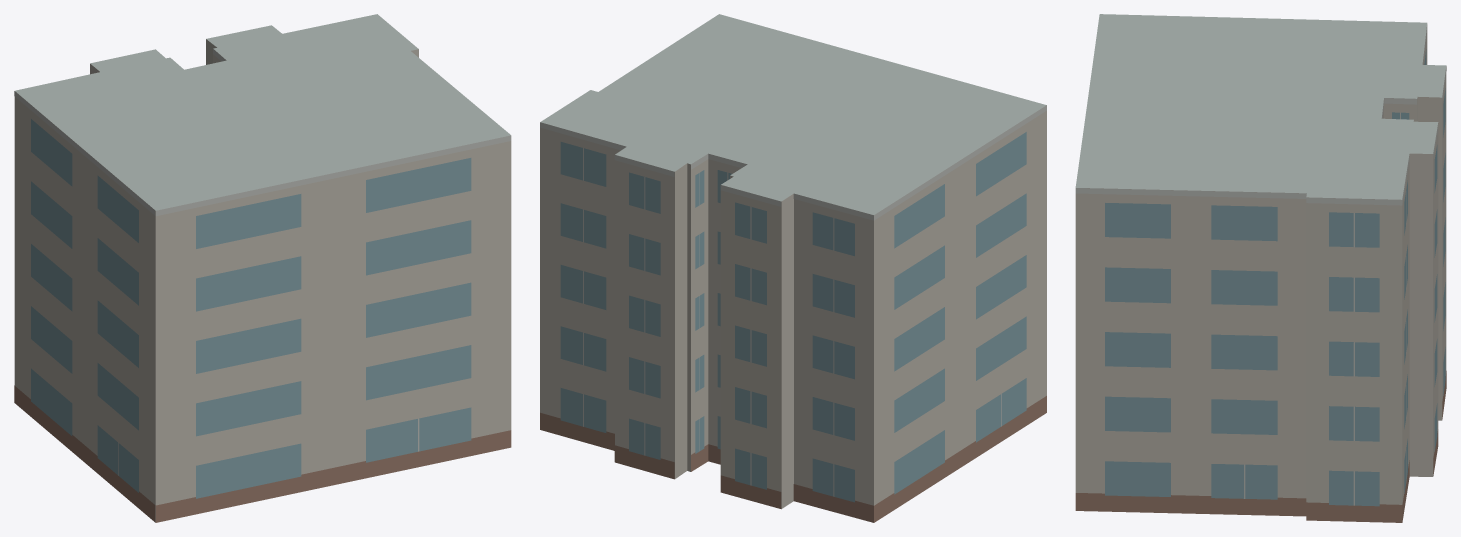
File: survey-upis-32657076.glb
3 views of the same model, side by side, from view 1: azimuth 30°, elevation 25°; view 2: azimuth 150°, elevation 25°; view 3: azimuth 270°, elevation 25° (orthographic). The views are drawn at different scales.
Parts seen in each view (by area): view 1: survey-upis-32657076.tmp; view 2: survey-upis-32657076.tmp; view 3: survey-upis-32657076.tmp.
Boxes of the visible parts, x1,y1,x2,y2 form: survey-upis-32657076.tmp: (14,14,511,522); survey-upis-32657076.tmp: (540,14,1046,522); survey-upis-32657076.tmp: (1075,14,1446,522).
Size of the model in its own units: 16.99 by 13.77 by 14.34.
